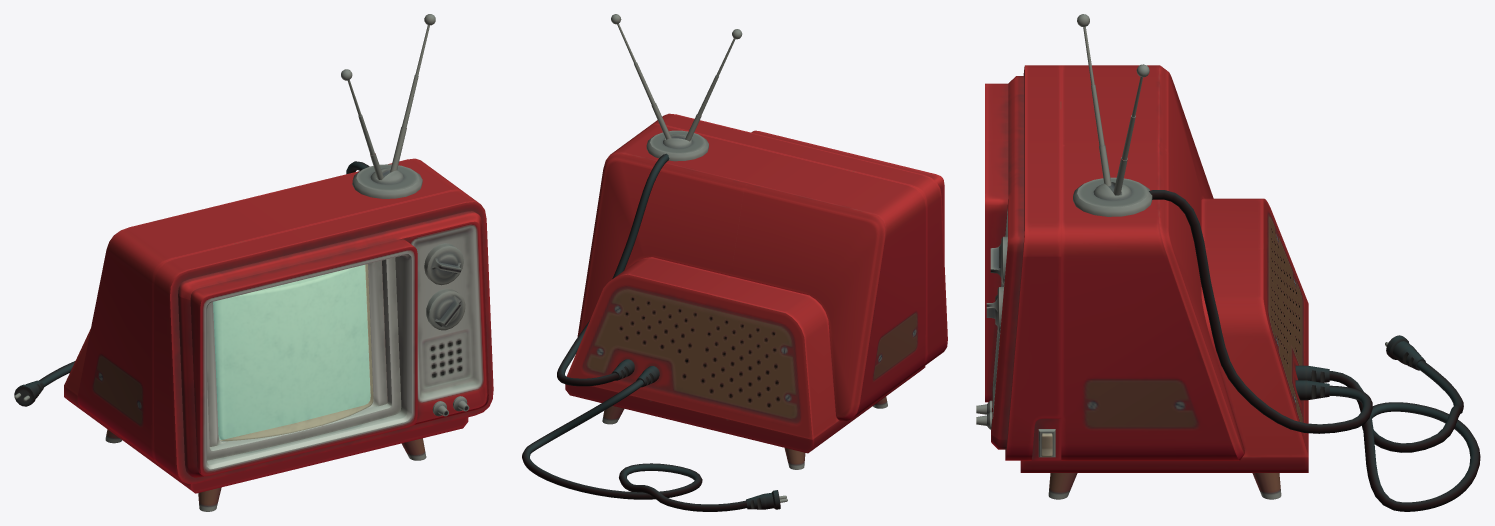
The model's file is cartoon-tv-92ac67.glb.
The picture shows the model from 3 angles, left to right: view 1: azimuth 30°, elevation 25°; view 2: azimuth 150°, elevation 25°; view 3: azimuth 270°, elevation 25°; orthographic projection. The views are drawn at different scales.
Visible parts, largest first — view 1: PropMesh; view 2: PropMesh; view 3: PropMesh.
Boxes of the visible parts, x1,y1,x2,y2 form: PropMesh: (14,14,493,511); PropMesh: (522,14,947,511); PropMesh: (976,14,1480,511).
Size of the model in its own units: 0.5777 by 0.7 by 0.6979.
Materials: 2 (2 with a texture image).
